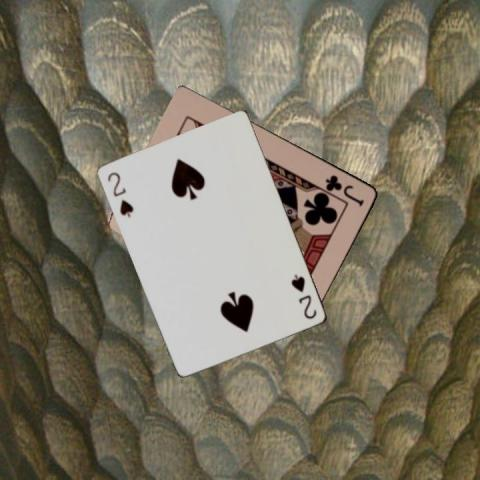2s: (288, 270, 319, 320), (105, 169, 135, 218)
Jc: (323, 171, 366, 207)
